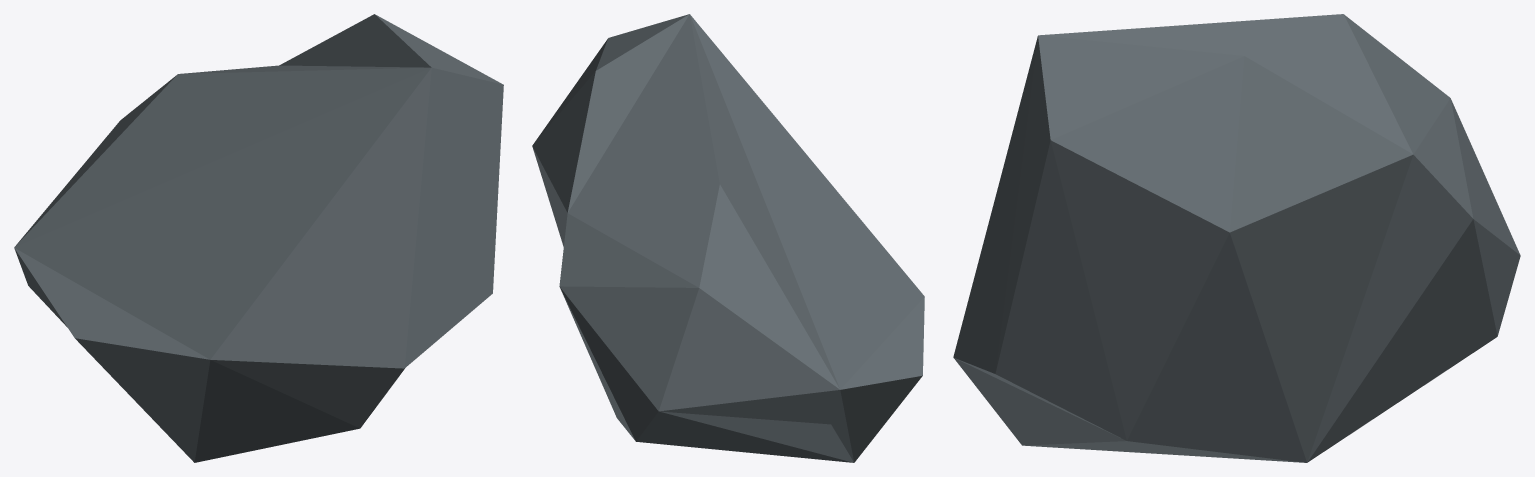
Rendered from Rock_1_LOD1.fbx.
The picture shows the model from 3 angles, left to right: view 1: azimuth 30°, elevation 25°; view 2: azimuth 150°, elevation 25°; view 3: azimuth 270°, elevation 25°; orthographic projection. The views are drawn at different scales.
Visible parts, largest first — view 1: Group13500; view 2: Group13500; view 3: Group13500.
Part boxes in pixels (box(x1,y1,x2,y2)): Group13500: box(14, 14, 503, 462); Group13500: box(532, 14, 924, 462); Group13500: box(953, 14, 1520, 462).
Size of the model in its own units: 122 by 113 by 114.
